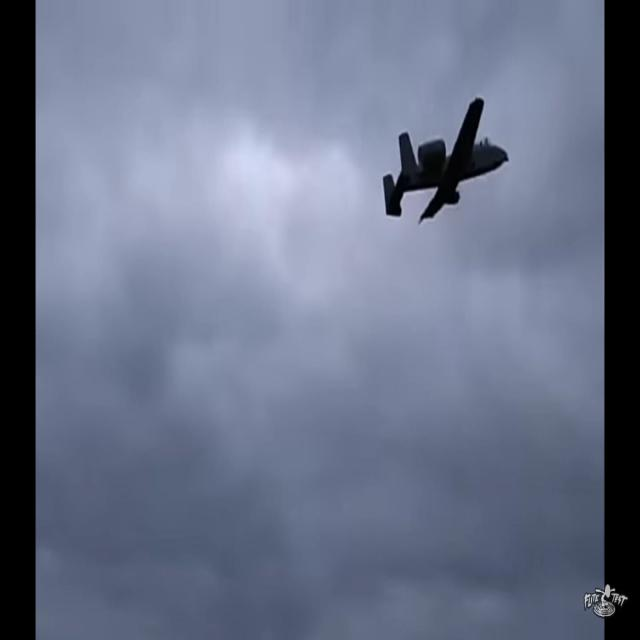iha: (414, 97, 477, 226)
